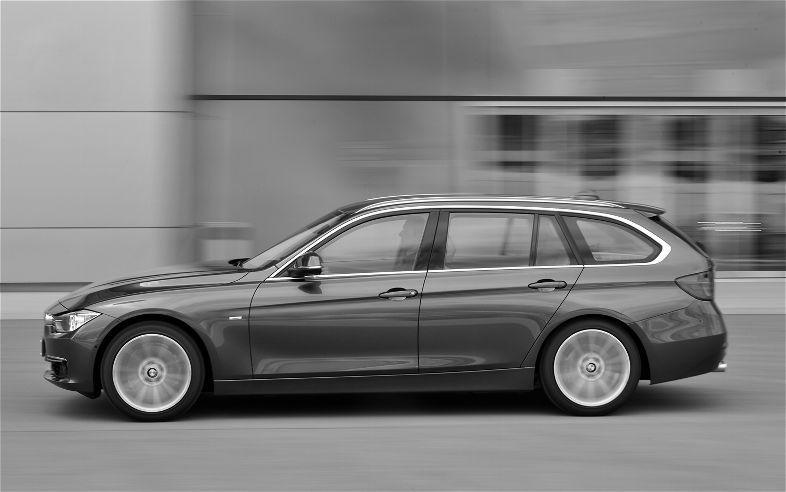car: (43, 194, 728, 426)
